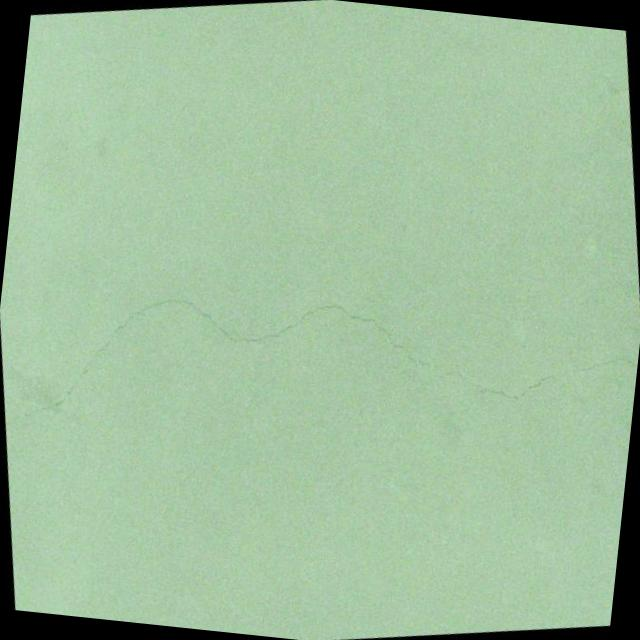crack: (0, 237, 460, 464), (436, 359, 574, 418), (564, 346, 638, 383), (430, 362, 484, 394), (4, 417, 34, 434)
